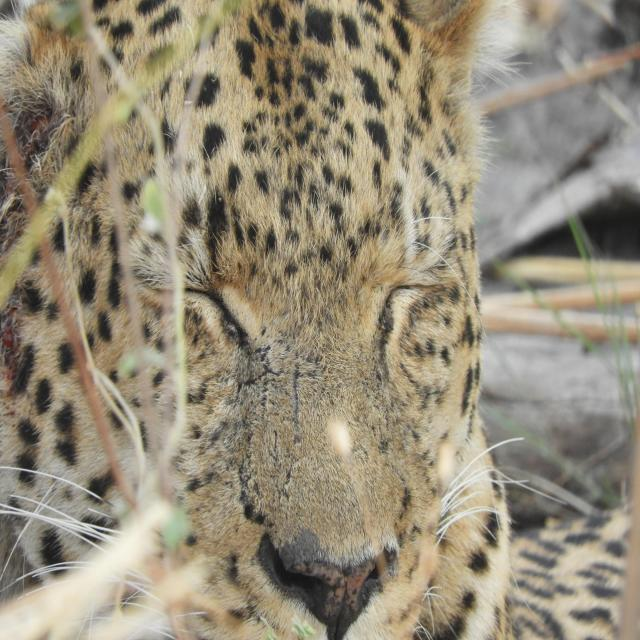Leopard: (0, 0, 629, 639)
